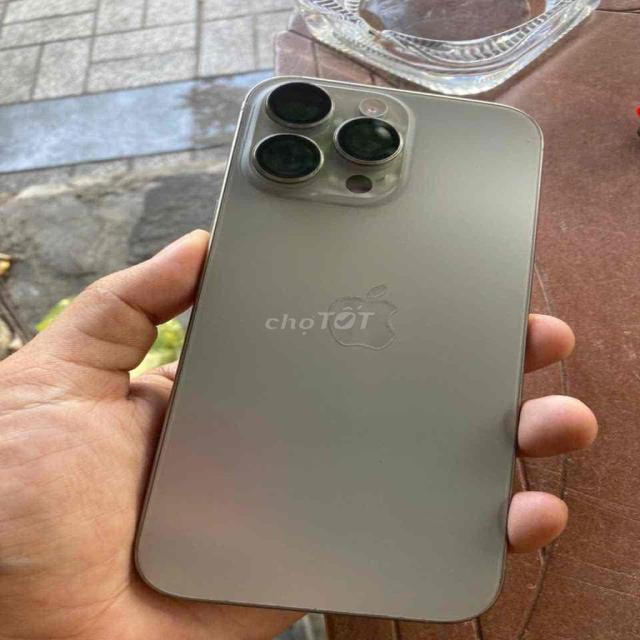gen_16: (137, 77, 541, 622)
